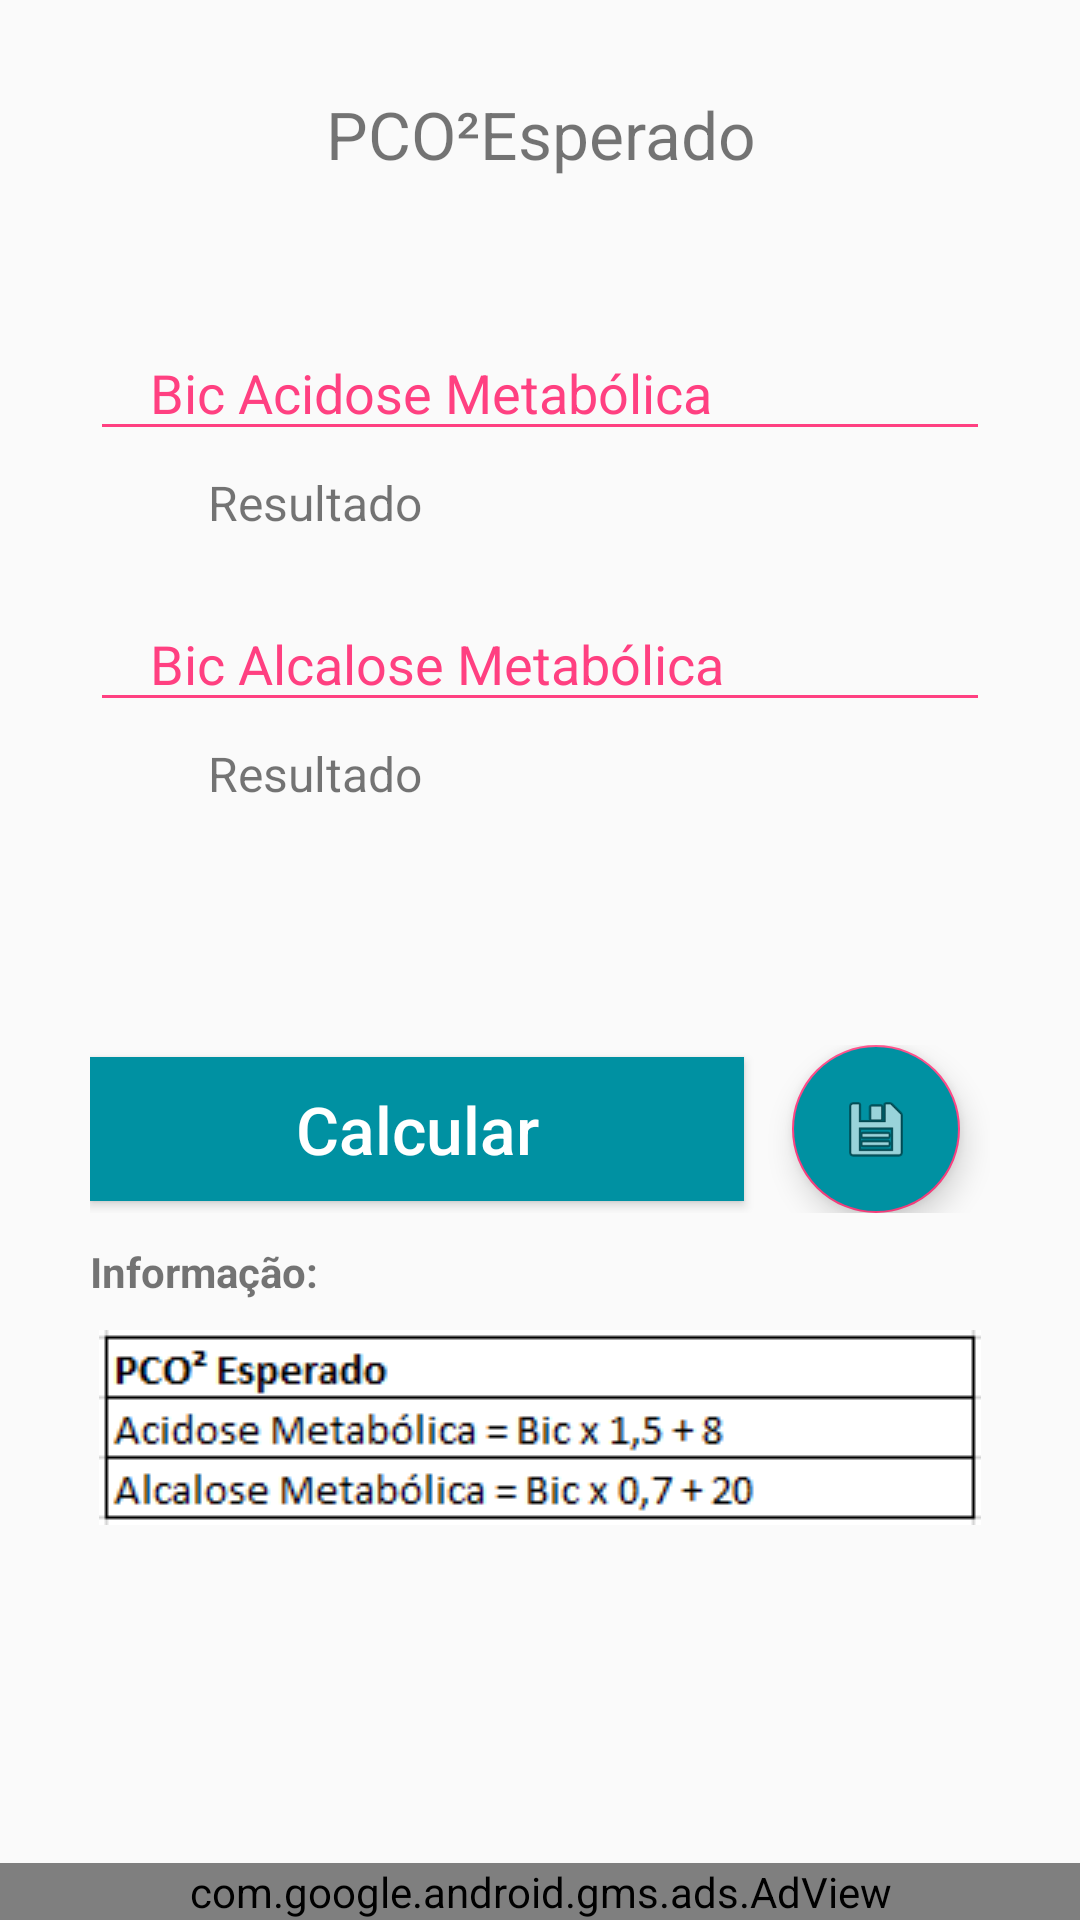

Locate icon controls on the screen. Image size 1080w x 1920h, boxes as (x1, y1, x2, y2).
save: (792, 1045, 960, 1213)
